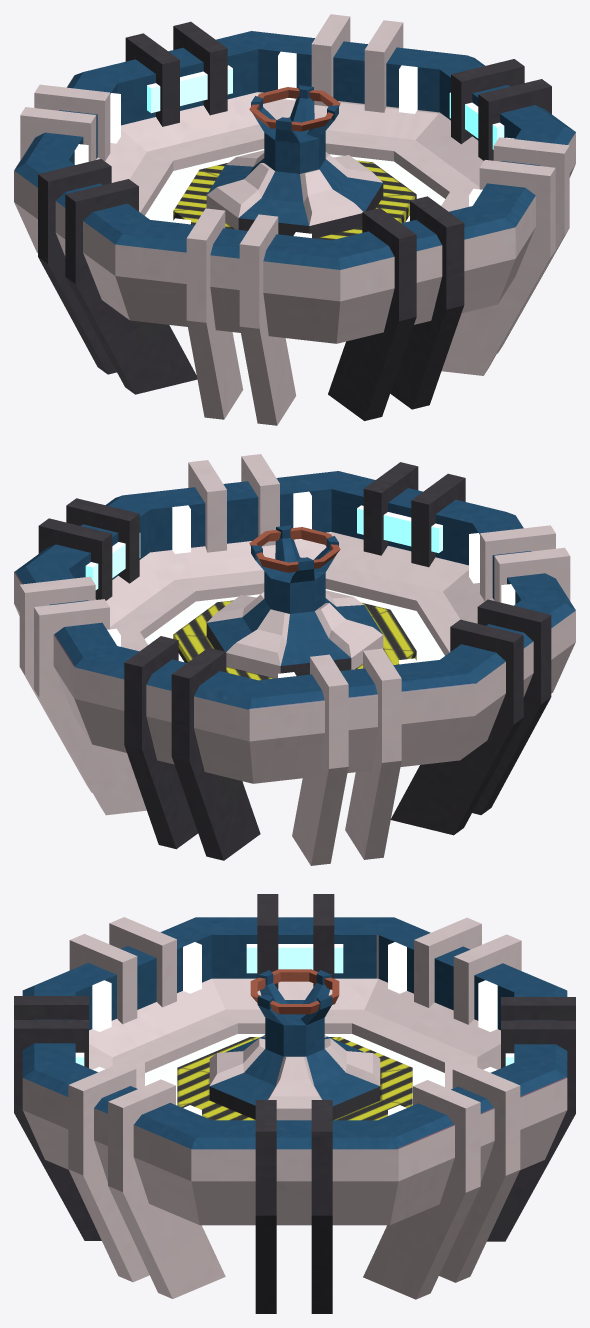
The picture shows the model from 3 angles, top to bottom: view 1: azimuth 30°, elevation 25°; view 2: azimuth 150°, elevation 25°; view 3: azimuth 270°, elevation 25°; orthographic projection. The views are drawn at different scales.
Visible parts, largest first — view 1: projector_LOD0_0; view 2: projector_LOD0_0; view 3: projector_LOD0_0.
Part boxes in pixels (left/top/right/bottom): projector_LOD0_0: left=14, top=14, right=575, bottom=425; projector_LOD0_0: left=14, top=454, right=575, bottom=865; projector_LOD0_0: left=14, top=894, right=575, bottom=1313.
Size of the model in its own units: 3.09 by 1.45 by 3.09.
4 materials, 2 textured.
